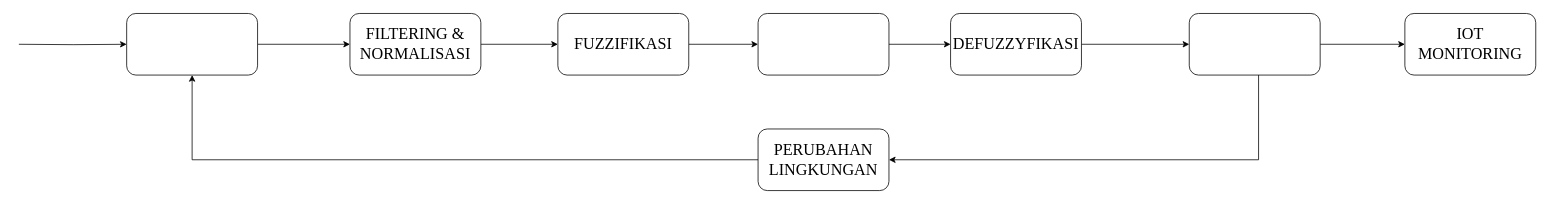
This 1549x204 diagram has some shape labels left out. Here are the shapes that lost their labels. From the top down, the centre of each, then its label:
At pixel 192 44: "INPUT SENSOR".
At pixel 823 44: "RULE ENGINE".
At pixel 1254 44: "AKTUATOR POMPA".
